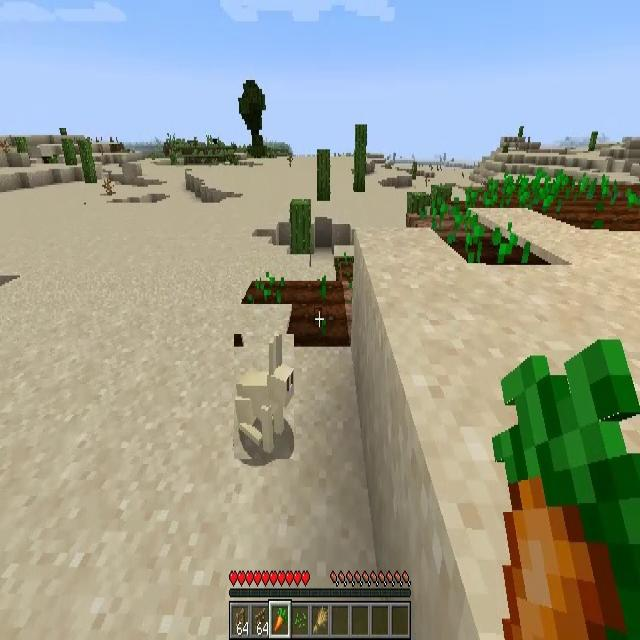rabbit: (234, 334, 294, 459)
